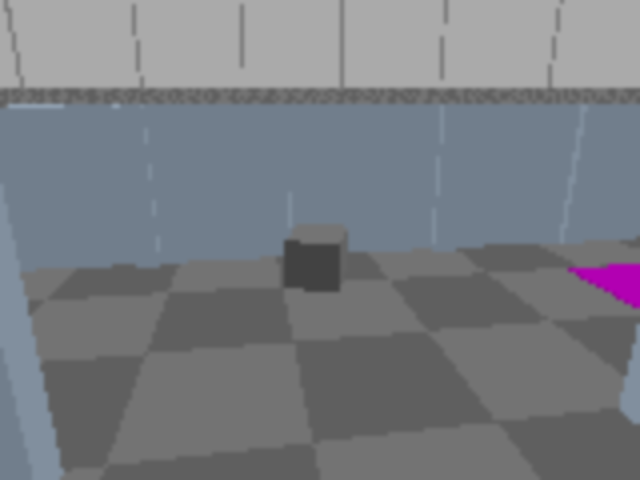goal_zone: (568, 262, 638, 329)
obstacle: (284, 224, 348, 293)
